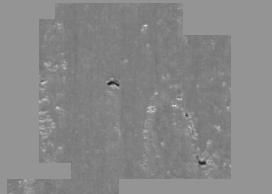oxl: (35, 10, 237, 184)
